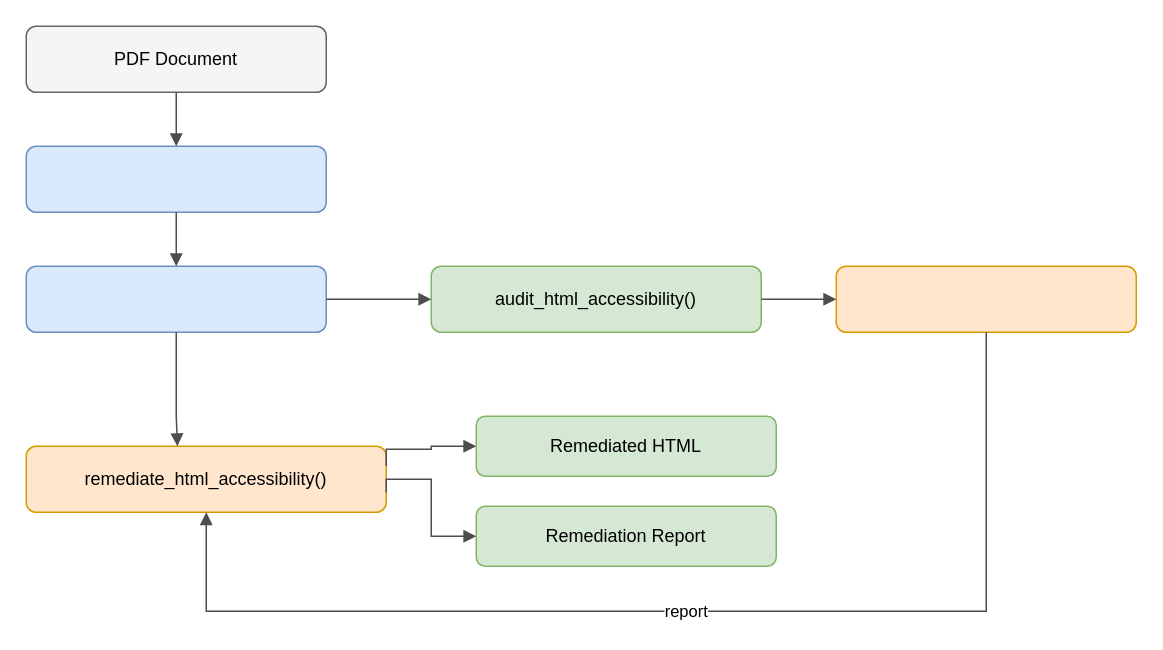
The diagram is 1163 pixels wide and 650 high, and some of its shapes have lost their labels. Here are the shapes that lost their labels. From the top down, the box of each, then its label:
(25, 145, 326, 212): convert_pdf_to_html()
(25, 265, 326, 332): HTML Content
(835, 265, 1136, 332): Accessibility Report
